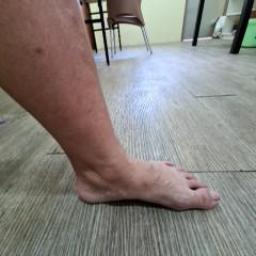Medial View -Left Foot-: (50, 131, 240, 236)
